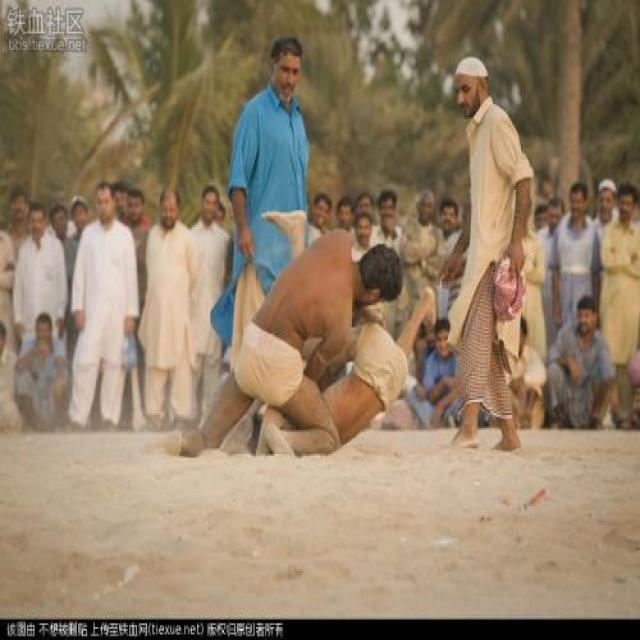10-: (0, 22, 634, 465)
down: (136, 220, 412, 472), (212, 196, 440, 460)
